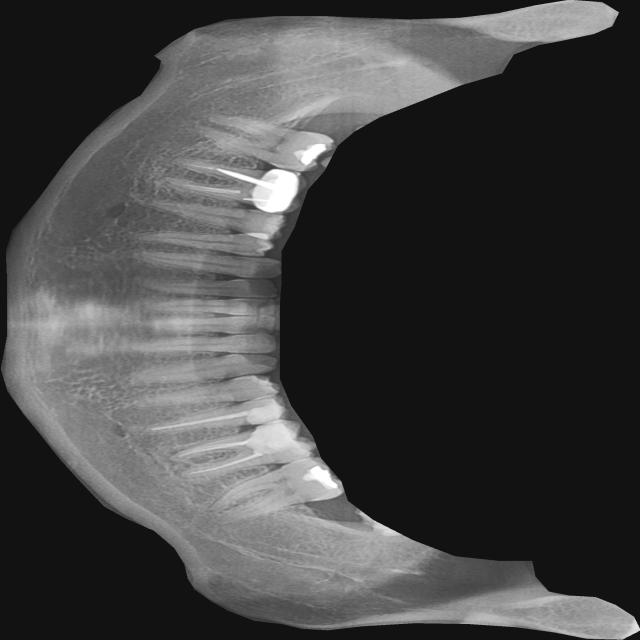mandibula: (0, 0, 640, 640)
